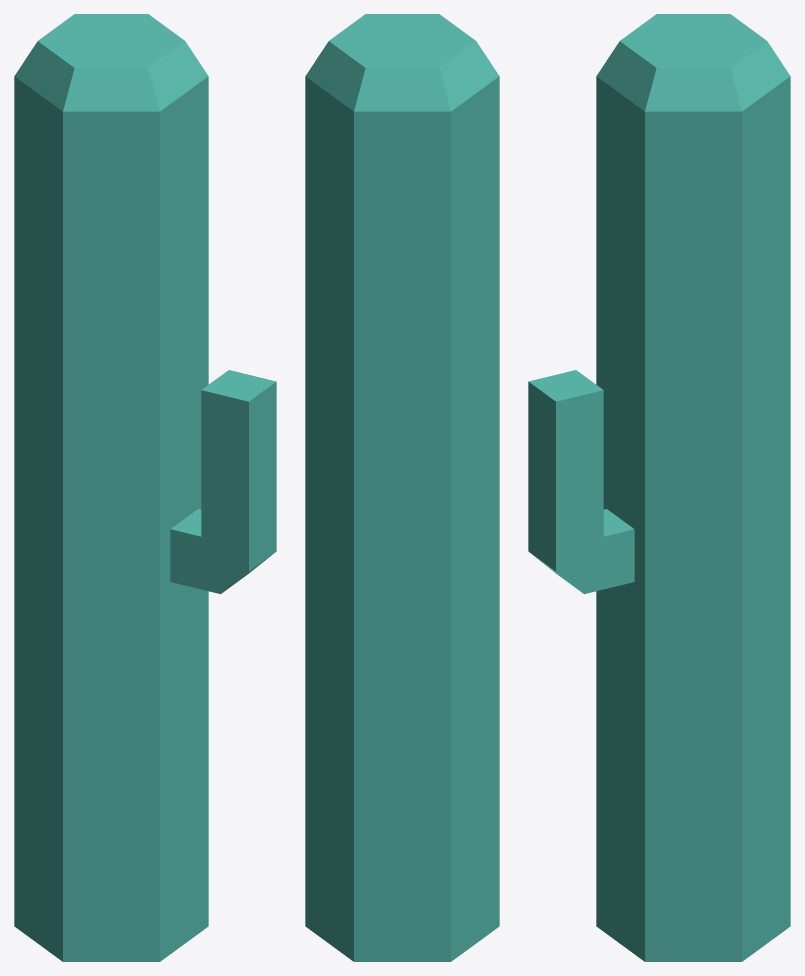
Rendered from cactus_large.fbx.
3 views of the same model, side by side, from view 1: azimuth 30°, elevation 25°; view 2: azimuth 150°, elevation 25°; view 3: azimuth 270°, elevation 25° (orthographic).
Visible parts, largest first — view 1: cactus_large; view 2: cactus_large; view 3: cactus_large.
Boxes of the visible parts, box(x1,y1,x2,y2) form: cactus_large: box(14, 14, 276, 961); cactus_large: box(305, 14, 499, 961); cactus_large: box(528, 14, 790, 961).
Size of the model in its own units: 1.16 by 5.8 by 1.56.
